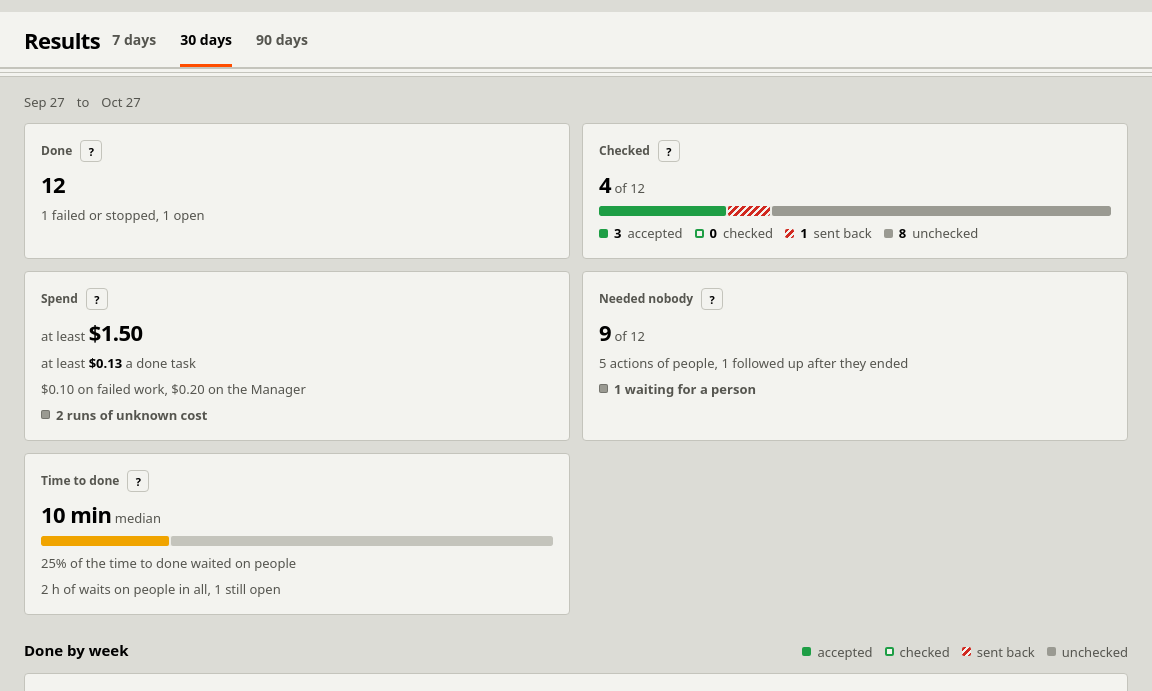
Test: Results › says that a heart and a check that only reads a file are no check (plan 4.2 and 4.4)
The image size is (1152, 691).
Click the 2nd button with class "help-key": (669, 151) 658,140 -> 680,162
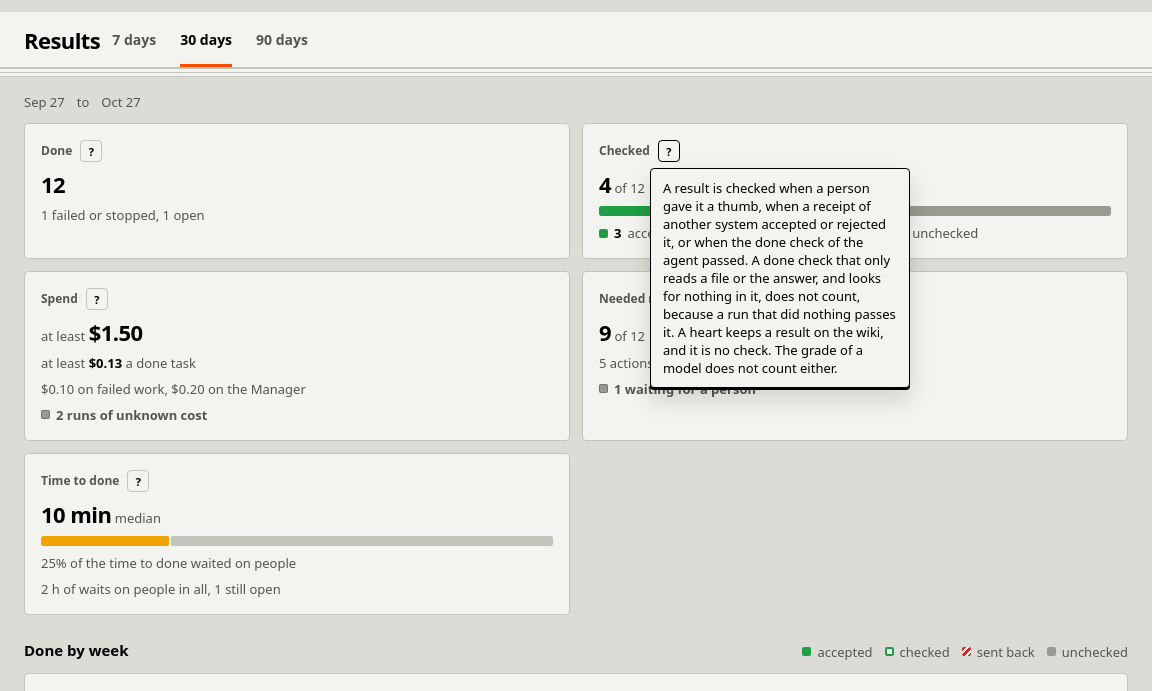
Expected: the element with class "rs-tile" shows "A heart keeps a result on the wiki, and it is no check.", 663,179 -> 896,377
Expected: the element with class "rs-tile" shows "A done check that only reads a file or the answer, and looks for nothing in it, does not count", 663,179 -> 896,377
